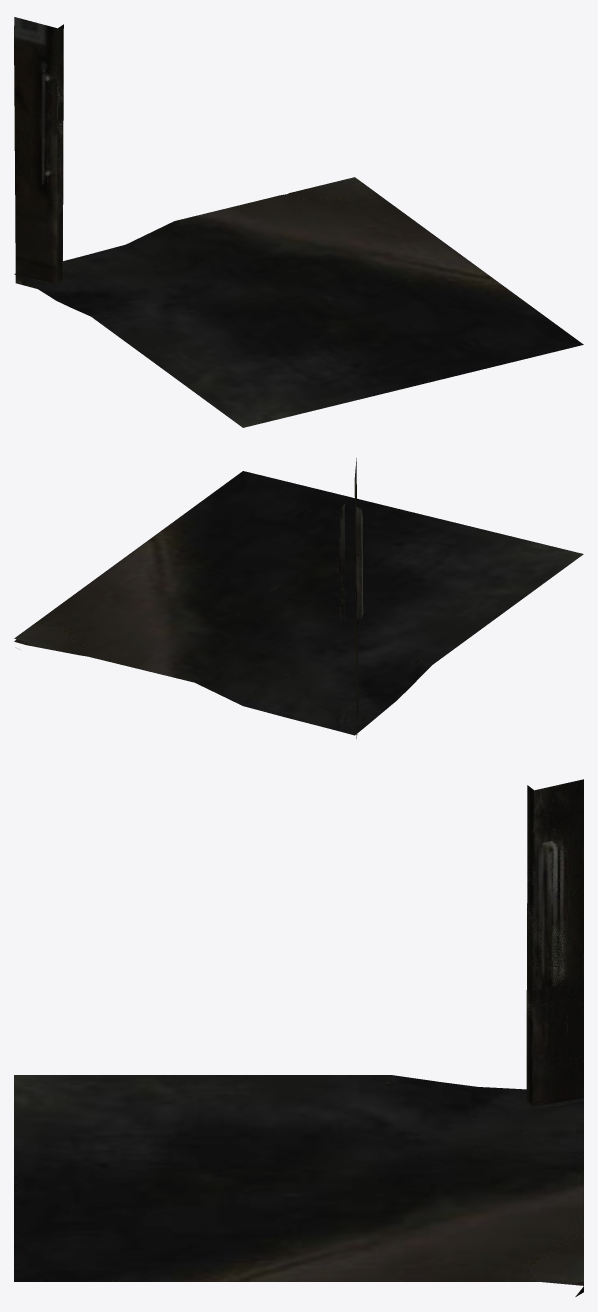
3 views of the same model, one above another, from view 1: azimuth 30°, elevation 25°; view 2: azimuth 150°, elevation 25°; view 3: azimuth 270°, elevation 25° (orthographic). The views are drawn at different scales.
Size of the model in its own units: 2.3 by 1.71 by 2.68.
1 material, 1 textured.
